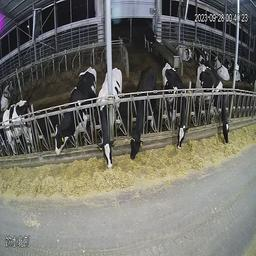cow: (47, 62, 97, 171), (127, 58, 160, 169), (96, 60, 124, 180), (197, 62, 230, 151), (161, 62, 188, 154), (2, 101, 38, 168), (141, 26, 159, 57), (213, 48, 229, 79), (180, 41, 194, 63)
